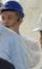hard-hat: (0, 10, 20, 35)
